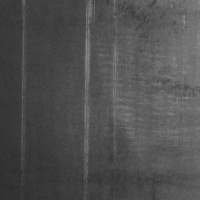scratches: (81, 2, 97, 185), (19, 1, 28, 167)
